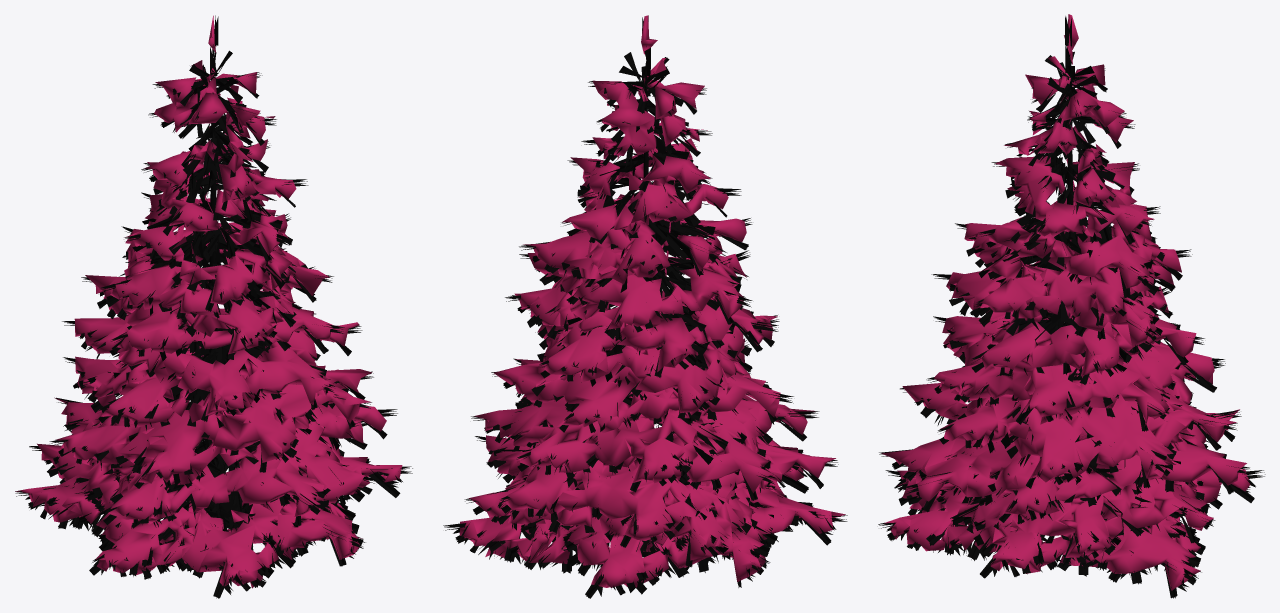
The model's file is snow_tree_v2.fbx.
The picture shows the model from 3 angles, left to right: view 1: azimuth 30°, elevation 25°; view 2: azimuth 150°, elevation 25°; view 3: azimuth 270°, elevation 25°; orthographic projection. The views are drawn at different scales.
Parts seen in each view (by area): view 1: AM100_025_04, AM100_025_02; view 2: AM100_025_04, AM100_025_02; view 3: AM100_025_04, AM100_025_02.
Boxes of the visible parts, bbox=[...] form: AM100_025_04: bbox=[15, 15, 402, 588]; AM100_025_02: bbox=[15, 15, 412, 598]; AM100_025_04: bbox=[459, 15, 845, 587]; AM100_025_02: bbox=[443, 15, 847, 598]; AM100_025_04: bbox=[881, 14, 1250, 590]; AM100_025_02: bbox=[878, 16, 1265, 598].
Size of the model in its own units: 359 by 558 by 368.
